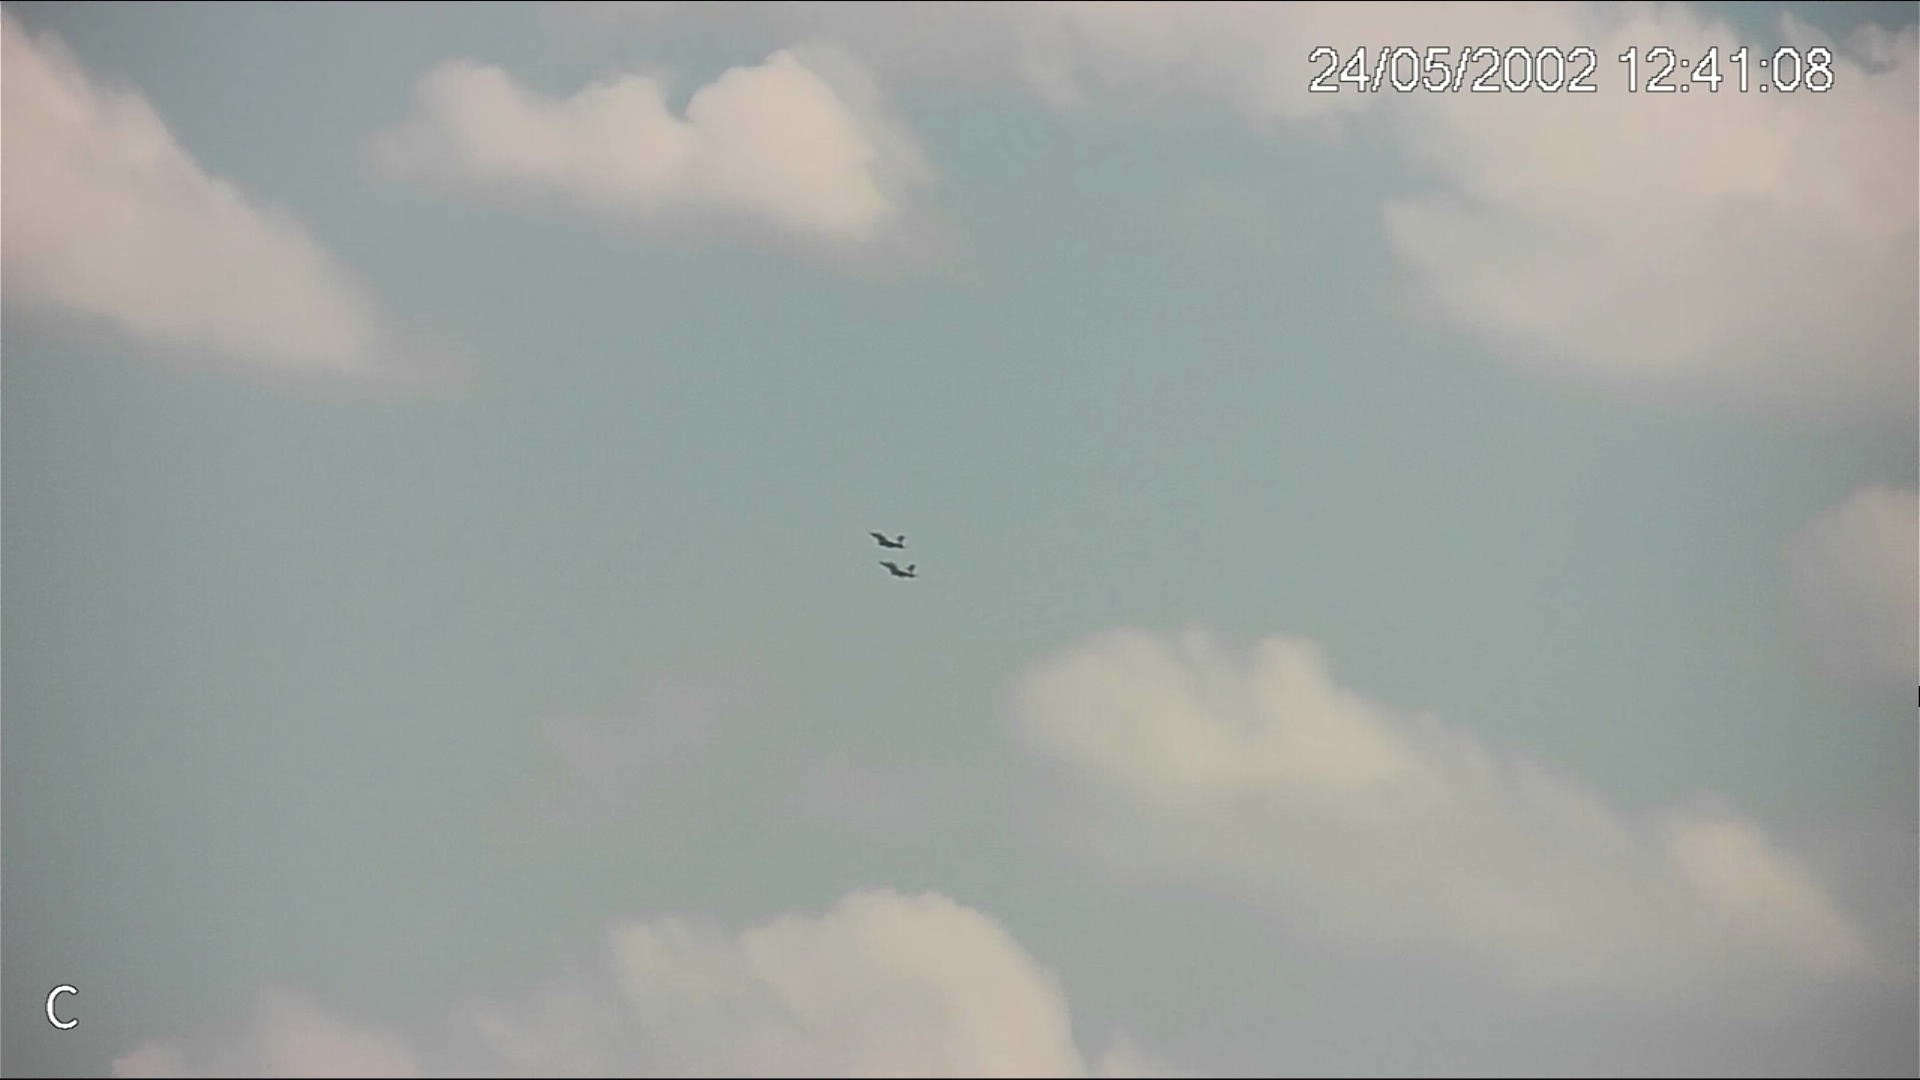SU_30: (877, 558, 920, 580), (869, 530, 909, 553)
